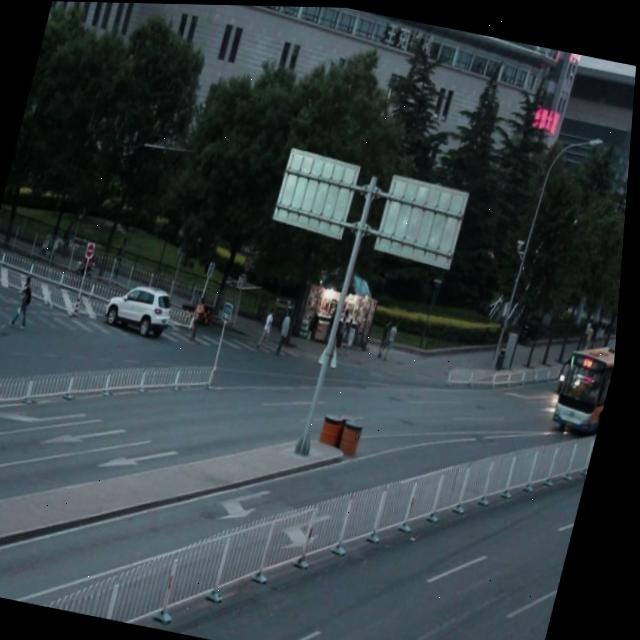car: (107, 275, 182, 338)
van: (554, 331, 621, 438)
